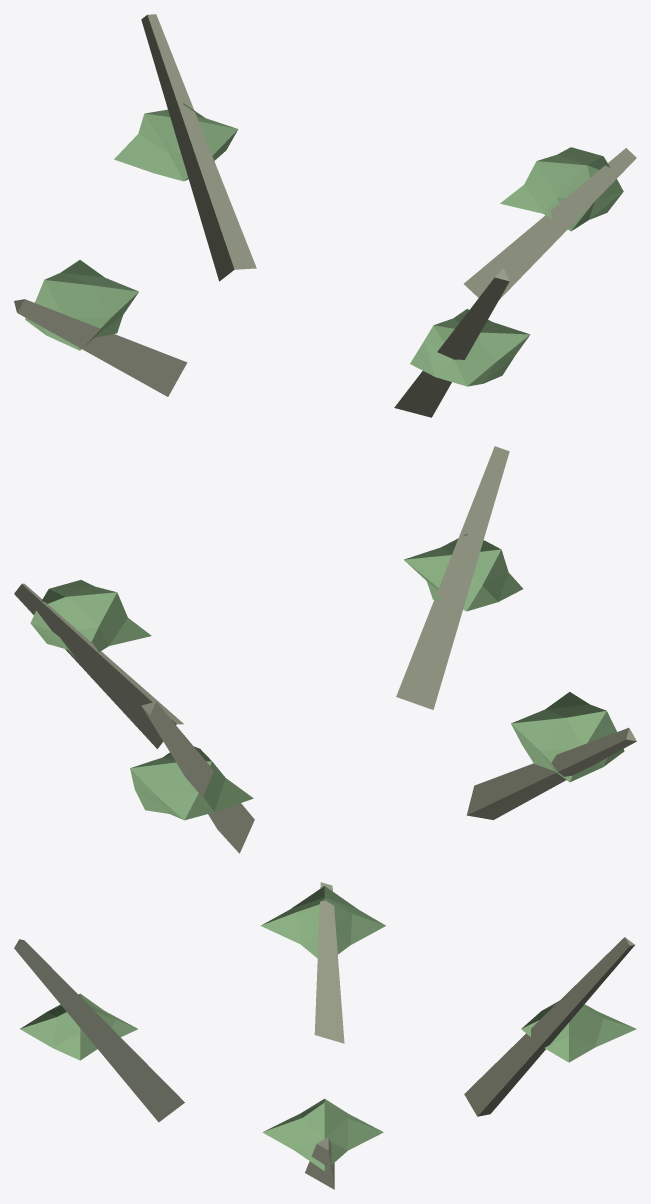
The model's file is bramble_v29.glb.
3 renders of one model, top to bottom at view 1: azimuth 30°, elevation 25°; view 2: azimuth 150°, elevation 25°; view 3: azimuth 270°, elevation 25°, orthographic. The views are drawn at different scales.
Visible parts, largest first — view 1: lod0; view 2: lod0; view 3: lod0.
Boxes of the visible parts, x1,y1,x2,y2 form: lod0: [14, 14, 636, 417]; lod0: [14, 446, 636, 853]; lod0: [14, 882, 636, 1189].
Size of what is drawn, in the model's own units: 0.7777 by 0.2535 by 0.7834.
